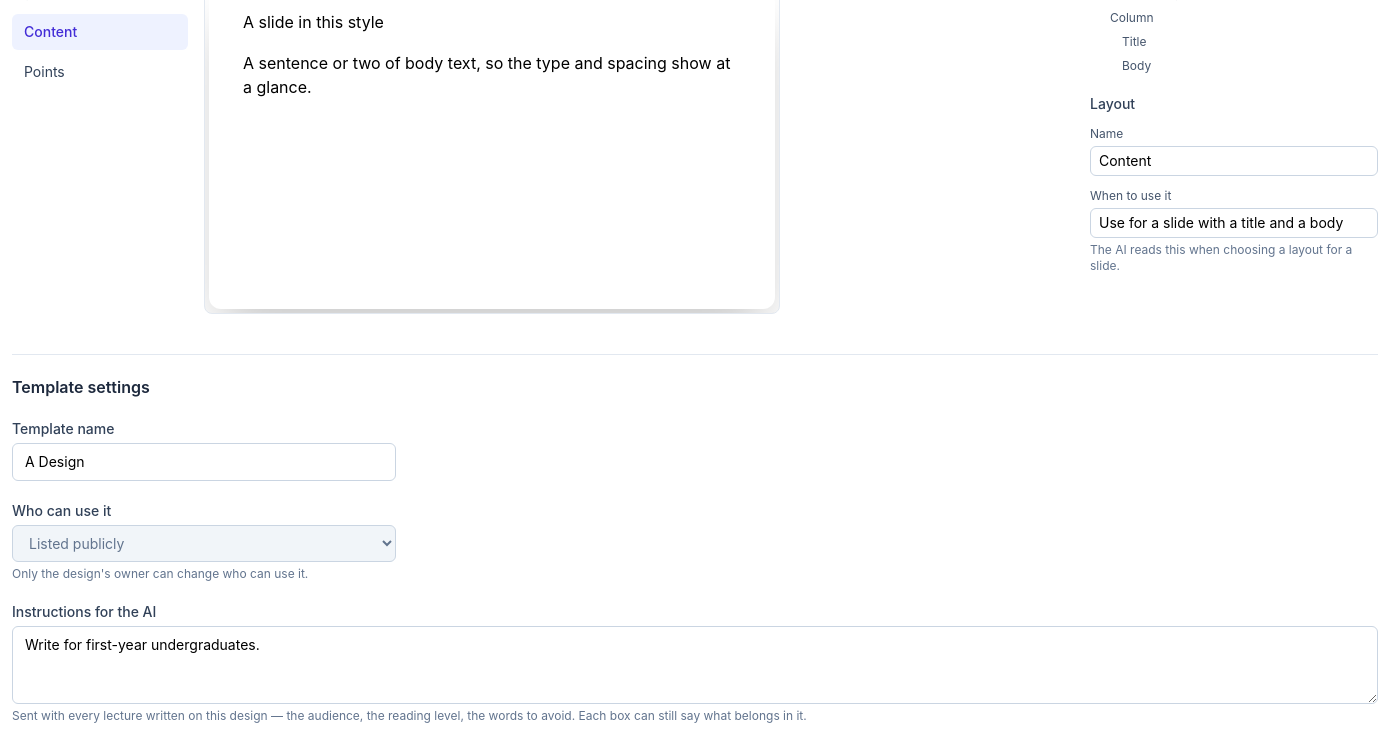
Test: TemplateReaderView (TMPL-29) › shows a box’s settings, including the author’s AI instruction, when selected
Click the button "Body": click(1137, 66) [1122,58,1151,73]
(page scrolled)
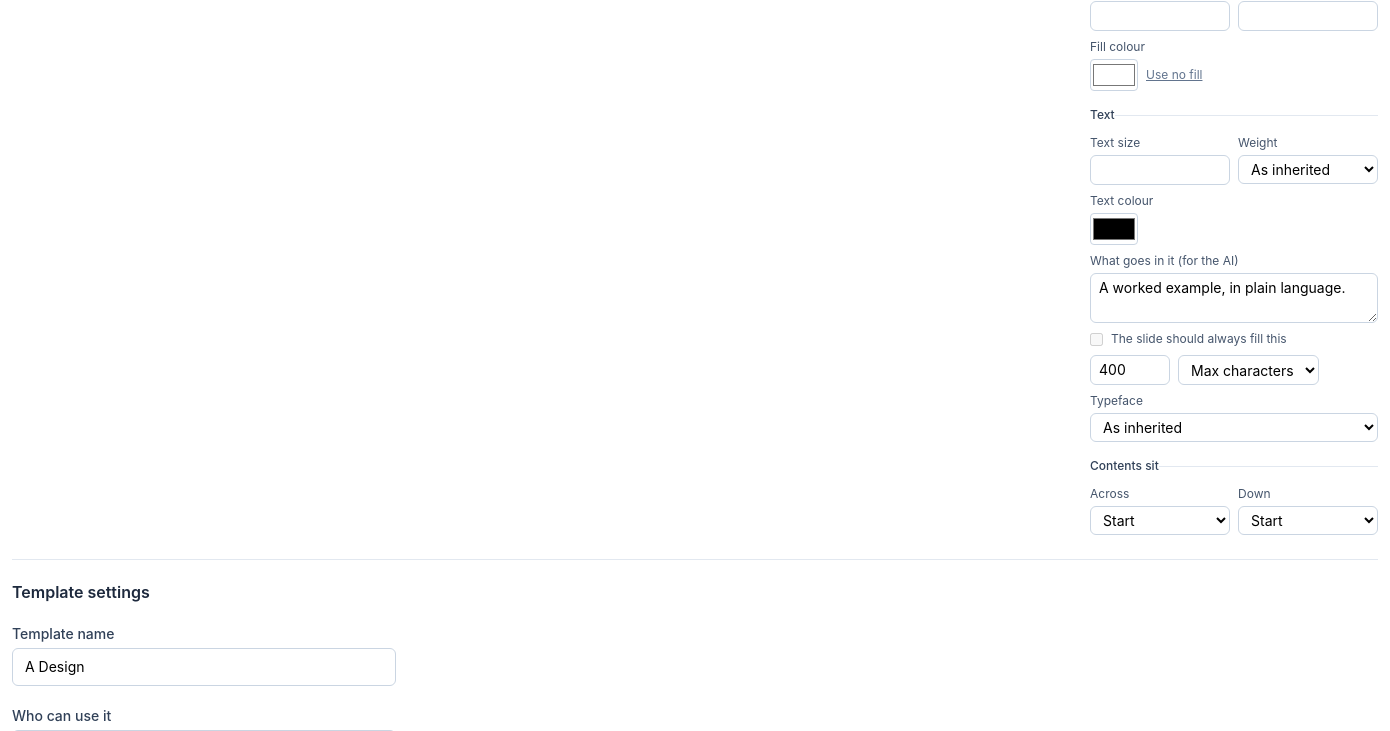
Check: the text box showing "A worked example, in plain language." is shown, box [1090,273,1378,323]
Check: the number field showing "400" is shown, box [1090,355,1170,385]
